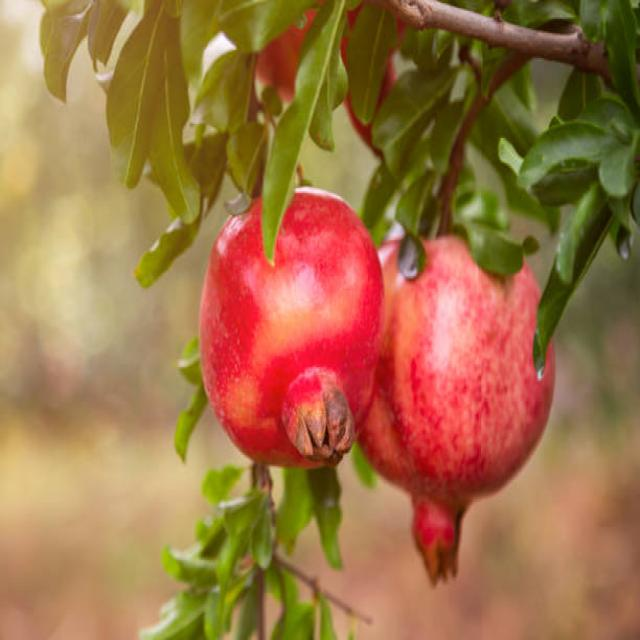Ripe: (381, 214, 560, 586), (194, 183, 385, 476)
